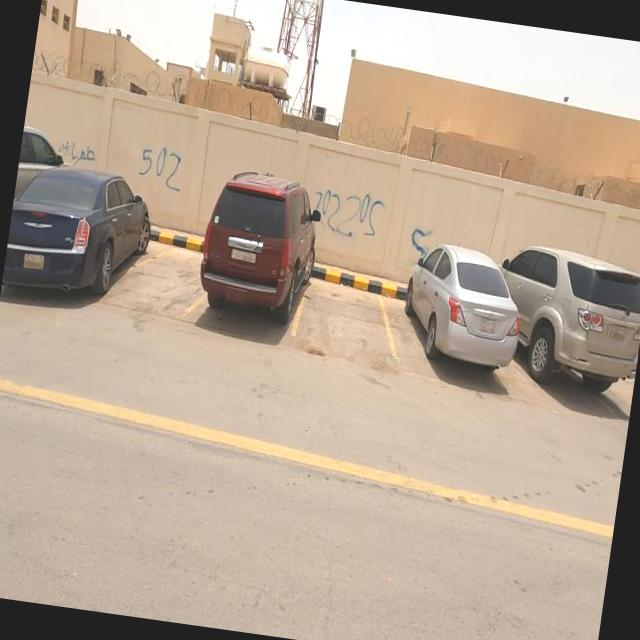debris: (250, 128, 434, 309), (88, 97, 243, 236), (15, 94, 138, 204)
